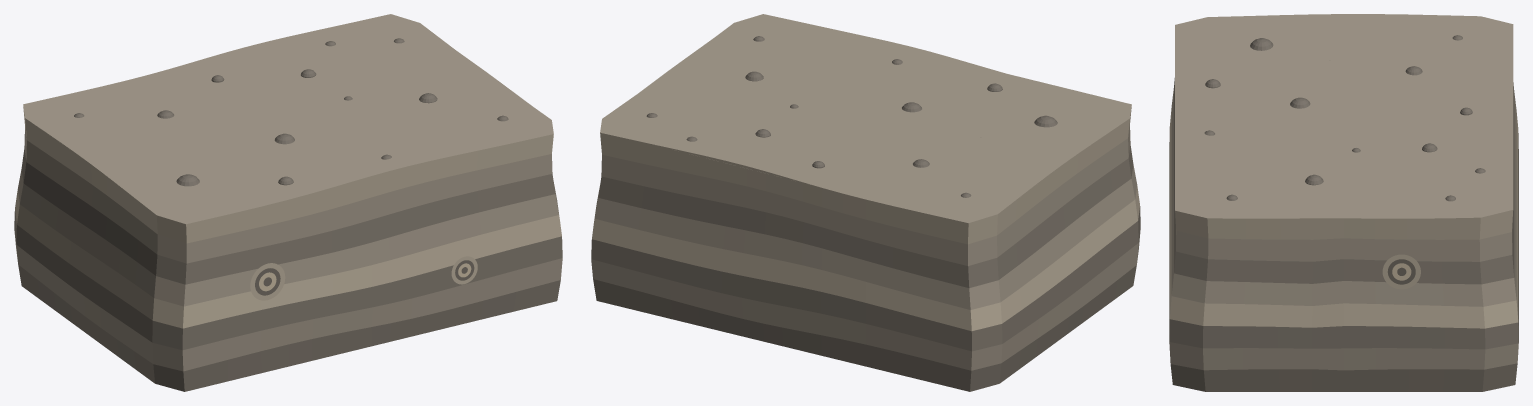
Rendered from accretionary-lapilli-bed.glb.
The picture shows the model from 3 angles, left to right: view 1: azimuth 30°, elevation 25°; view 2: azimuth 150°, elevation 25°; view 3: azimuth 270°, elevation 25°; orthographic projection. The views are drawn at different scales.
Parts seen in each view (by area): view 1: continuous-layered-ash-matrix, three-exposed-concentric-ash-sections, embedded-rounded-ash-aggregates; view 2: continuous-layered-ash-matrix, embedded-rounded-ash-aggregates; view 3: continuous-layered-ash-matrix, embedded-rounded-ash-aggregates, three-exposed-concentric-ash-sections.
Part boxes in pixels (x1,y1,x2,y2): continuous-layered-ash-matrix: (14, 14, 562, 391); three-exposed-concentric-ash-sections: (250, 256, 477, 300); embedded-rounded-ash-aggregates: (74, 38, 508, 186); continuous-layered-ash-matrix: (591, 14, 1140, 391); embedded-rounded-ash-aggregates: (646, 36, 1057, 197); continuous-layered-ash-matrix: (1169, 14, 1518, 391); embedded-rounded-ash-aggregates: (1204, 35, 1485, 201); three-exposed-concentric-ash-sections: (1382, 254, 1420, 289).
Bounding box in the file's own units: 0.2799 × 0.1138 × 0.2001.
